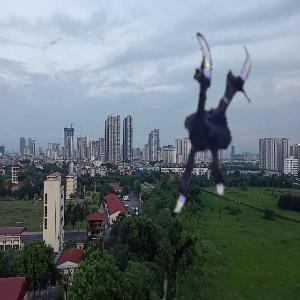drone: (104, 33, 283, 212)
